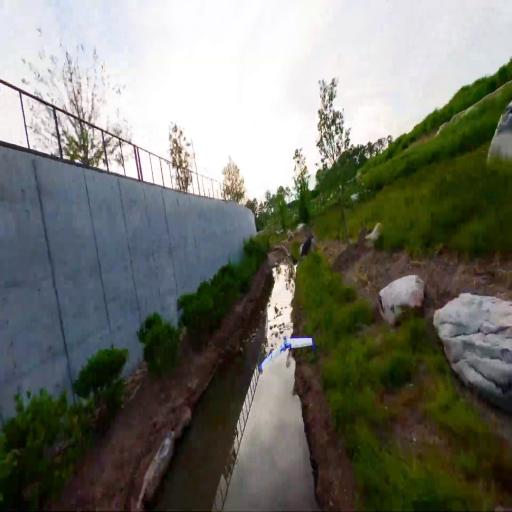uav: (257, 331, 316, 378)
